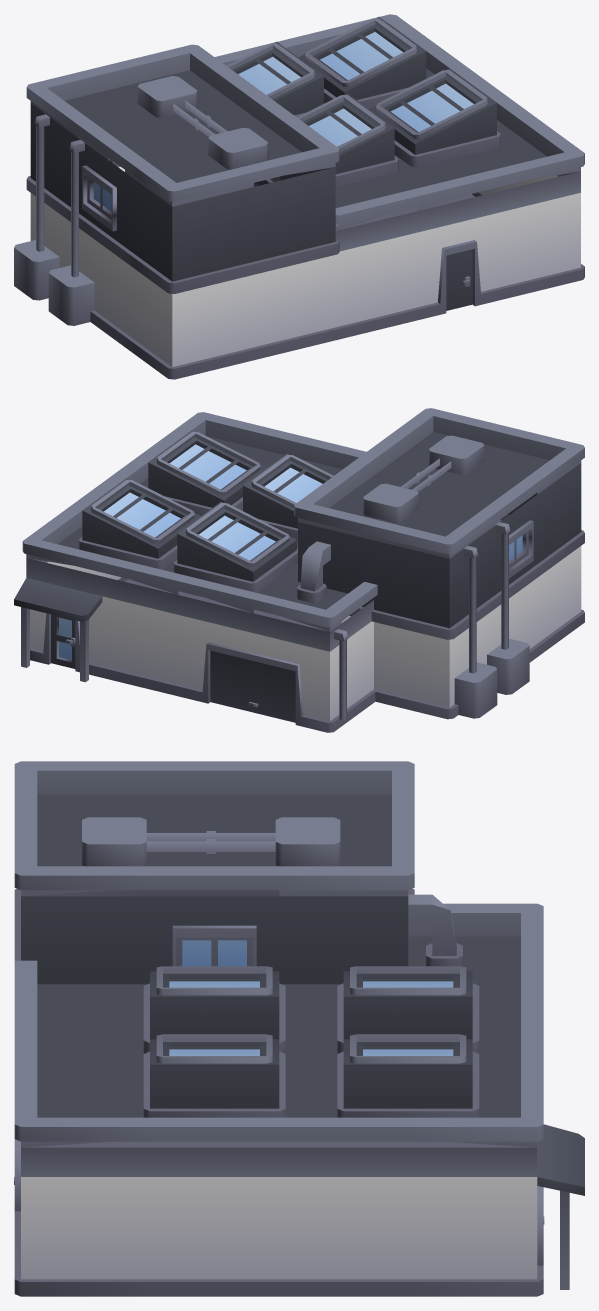
The model's file is building-q.lod.glb.
3 renders of one model, top to bottom at view 1: azimuth 30°, elevation 25°; view 2: azimuth 150°, elevation 25°; view 3: azimuth 270°, elevation 25°, orthographic. The views are drawn at different scales.
Parts seen in each view (by area): view 1: building-q; view 2: building-q; view 3: building-q.
Boxes of the visible parts, left/top/right/bottom form: building-q: left=14, top=14, right=584, bottom=379; building-q: left=14, top=408, right=584, bottom=732; building-q: left=14, top=761, right=584, bottom=1296.
Bounding box in the file's own units: 2.14 × 0.8799 × 1.77.
1 material, 1 textured.
